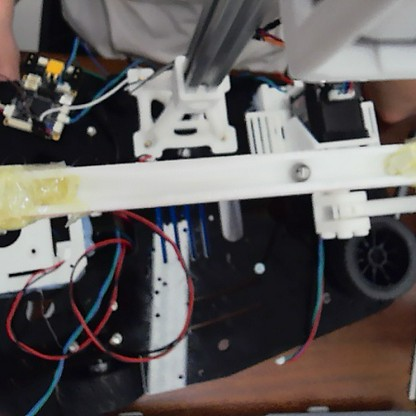ironball: (288, 159, 312, 185)
